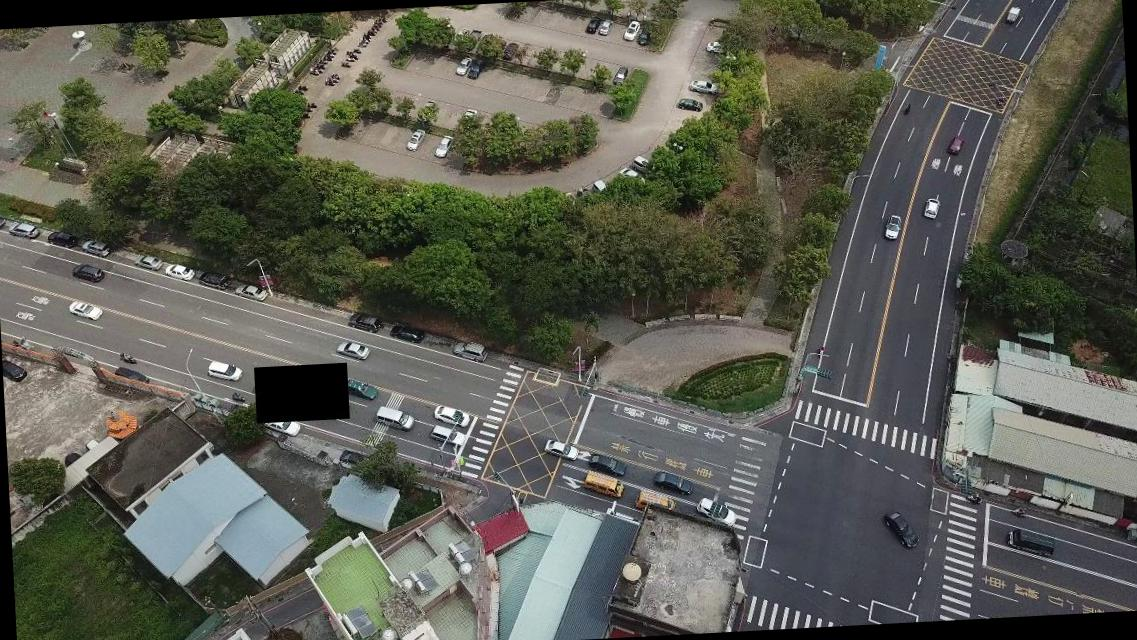vehicle: (1006, 526, 1054, 559), (884, 507, 920, 551), (580, 468, 624, 501), (632, 486, 679, 516), (694, 496, 738, 528), (374, 403, 415, 434), (652, 468, 694, 496), (585, 450, 627, 478), (201, 358, 244, 384), (431, 402, 470, 429), (342, 376, 379, 403), (262, 413, 300, 438), (450, 339, 487, 364), (111, 364, 150, 387), (386, 322, 423, 346), (346, 309, 380, 335), (64, 300, 104, 322), (544, 438, 580, 462), (430, 424, 464, 448), (78, 237, 110, 260), (233, 282, 266, 304), (335, 340, 368, 362), (197, 270, 230, 292), (72, 261, 104, 283), (44, 230, 78, 250), (6, 220, 39, 240), (164, 262, 196, 282), (616, 164, 645, 185), (133, 252, 161, 272), (883, 212, 902, 240), (686, 77, 716, 94), (431, 135, 452, 159), (945, 133, 965, 157), (404, 128, 424, 152), (920, 198, 940, 220), (676, 96, 703, 112), (453, 54, 471, 78), (621, 20, 640, 42), (611, 64, 628, 86), (467, 58, 484, 80), (455, 108, 475, 126), (583, 16, 601, 35), (632, 156, 651, 173), (597, 17, 613, 37), (706, 36, 726, 52)
